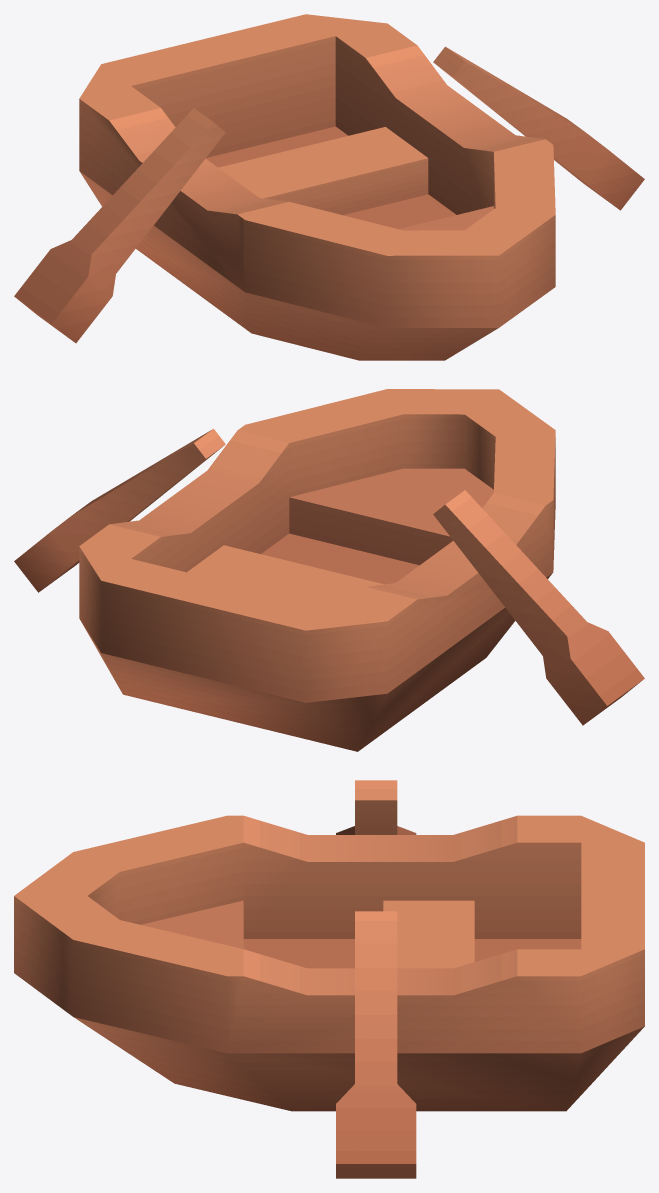
File: boat-row.glb
3 renders of one model, top to bottom at view 1: azimuth 30°, elevation 25°; view 2: azimuth 150°, elevation 25°; view 3: azimuth 270°, elevation 25°, orthographic. The views are drawn at different scales.
Parts seen in each view (by area): view 1: boat-row-small; view 2: boat-row-small; view 3: boat-row-small.
Boxes of the visible parts, box(x1,y1,x2,y2) form: boat-row-small: box(14, 14, 644, 360); boat-row-small: box(14, 389, 644, 751); boat-row-small: box(14, 780, 644, 1178).
Size of the model in its own units: 2.75 by 0.8476 by 2.37.
Materials: 1 (1 with a texture image).
